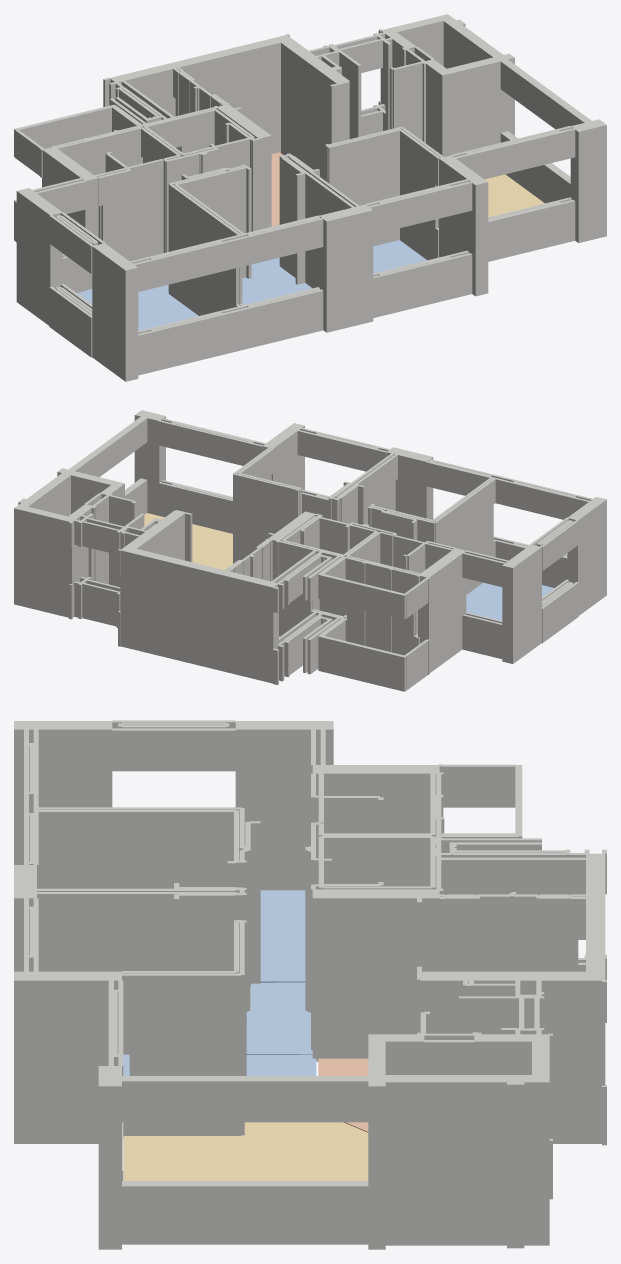
The picture shows the model from 3 angles, top to bottom: view 1: azimuth 30°, elevation 25°; view 2: azimuth 150°, elevation 25°; view 3: azimuth 270°, elevation 25°; orthographic projection. The views are drawn at different scales.
Visible parts, largest first — view 1: walls, room:bedroom:5, room:bedroom:4, room:living:3, room:bedroom:6, room:kitchen:8; view 2: walls, room:living:3, room:bedroom:4; view 3: walls, room:living:3, room:bedroom:5, room:bedroom:4, room:bedroom:6, room:kitchen:8.
Boxes of the visible parts, x1,y1,x2,y2 form: walls: [14, 14, 606, 381]; room:bedroom:5: [242, 257, 311, 304]; room:bedroom:4: [77, 284, 198, 330]; room:living:3: [484, 174, 544, 217]; room:bedroom:6: [373, 240, 426, 273]; room:kitchen:8: [271, 152, 283, 226]; walls: [14, 410, 606, 691]; room:living:3: [144, 513, 232, 569]; room:bedroom:4: [466, 582, 554, 620]; walls: [14, 720, 606, 1249]; room:living:3: [123, 1122, 368, 1180]; room:bedroom:5: [246, 982, 312, 1054]; room:bedroom:4: [260, 890, 305, 982]; room:bedroom:6: [123, 1054, 316, 1075]; room:kitchen:8: [318, 1058, 368, 1132].
Bounding box in the file's own units: 13.46 × 2.8 × 9.21.
